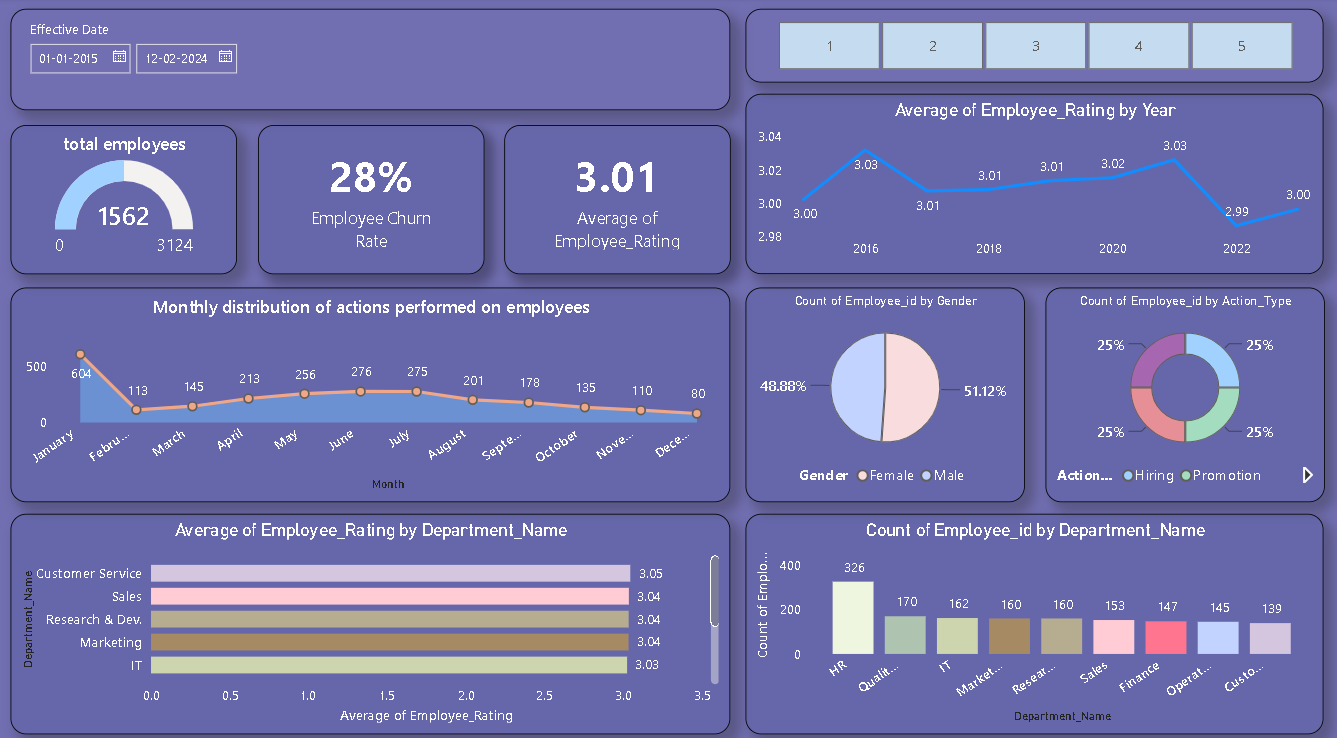

Layout of this report page (visuals, bound fields, positions):
{"tool":"powerbi","page":{"name":"Page 1","canvas":[1280,720],"ordinal":0},"visuals":[{"type":"columnChart","fields":{"Y":["CountNonNull(Employee Table.Employee_id)"],"Category":["Employee Table.Department_Name"]},"box":[713.2,494.1,551.5,210.3],"z":0},{"type":"lineChart","fields":{"Y":["Avg(Performance Table.Employee_Rating)"],"Category":["Performance Table.Performance_Evaluation_Date.Variation.Date Hierarchy.Year"]},"box":[713.2,94.1,551.5,172.1],"z":1000},{"type":"pieChart","fields":{"Category":["Employee Table.Gender"],"Y":["CountNonNull(Performance Table.Employee_id)"]},"box":[713.2,279.4,266.2,204.4],"z":2000},{"type":"donutChart","fields":{"Category":["Action Table.Action_Type"],"Y":["CountNonNull(Employee Table.Employee_id)"]},"box":[998.5,279.4,266.2,204.4],"z":3000},{"type":"areaChart","title":"Monthly distribution of actions performed on employees","fields":{"Y":["CountNonNull(Action Table.Action_Type)"],"Category":["Action Table.EffectiveDt.Variation.Date Hierarchy.Month"]},"box":[11.8,279.4,686.8,204.4],"z":4000},{"type":"barChart","fields":{"Y":["Avg(Performance Table.Employee_Rating)"],"Category":["Employee Table.Department_Name"]},"box":[11.8,494.1,686.8,210.3],"z":5000},{"type":"gauge","fields":{"Y":["Employee Table.total employees"]},"box":[11.8,123.5,216.2,142.6],"z":6000},{"type":"slicer","fields":{"Values":["Performance Table.Employee_Rating"]},"box":[713.2,13.2,551.5,70.6],"z":7000},{"type":"cardVisual","fields":{"Data":["Employee Table.Employee Churn Rate"]},"box":[248.5,123.5,216.2,142.6],"z":8000},{"type":"slicer","fields":{"Values":["Action Table.EffectiveDt"]},"box":[11.8,13.2,686.8,97.1],"z":9000},{"type":"cardVisual","fields":{"Data":["Avg(Performance Table.Employee_Rating)"]},"box":[482.4,123.5,216.2,142.6],"z":10000}]}

Visuals, with their boxes in screenshot pixels (x1, y1, x2, y2), scaled from the page's 1280x720 canvas onto the 1337x738 screenshot:
columnChart - CountNonNull(Employee Table.Employee_id) x Employee Table.Department_Name: [left=745, top=506, right=1321, bottom=722]
lineChart - Avg(Performance Table.Employee_Rating) x Performance Table.Performance_Evaluation_Date.Variation.Date Hierarchy.Year: [left=745, top=96, right=1321, bottom=273]
pieChart - Employee Table.Gender x CountNonNull(Performance Table.Employee_id): [left=745, top=286, right=1023, bottom=496]
donutChart - Action Table.Action_Type x CountNonNull(Employee Table.Employee_id): [left=1043, top=286, right=1321, bottom=496]
"Monthly distribution of actions performed on employees" areaChart: [left=12, top=286, right=730, bottom=496]
barChart - Avg(Performance Table.Employee_Rating) x Employee Table.Department_Name: [left=12, top=506, right=730, bottom=722]
gauge - Employee Table.total employees: [left=12, top=127, right=238, bottom=273]
slicer - Performance Table.Employee_Rating: [left=745, top=14, right=1321, bottom=86]
cardVisual - Employee Table.Employee Churn Rate: [left=260, top=127, right=485, bottom=273]
slicer - Action Table.EffectiveDt: [left=12, top=14, right=730, bottom=113]
cardVisual - Avg(Performance Table.Employee_Rating): [left=504, top=127, right=730, bottom=273]
